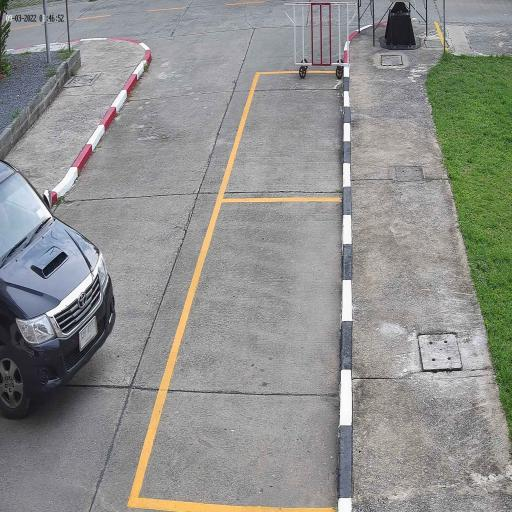car: (0, 158, 116, 418)
